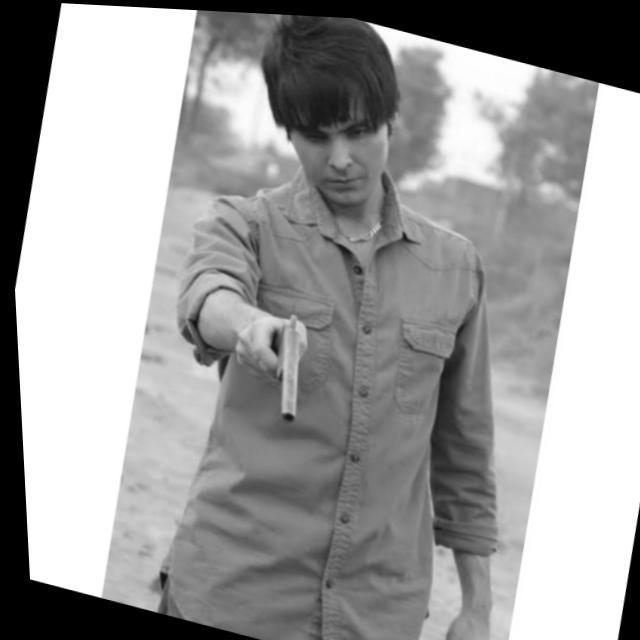weapon: (238, 297, 326, 428)
